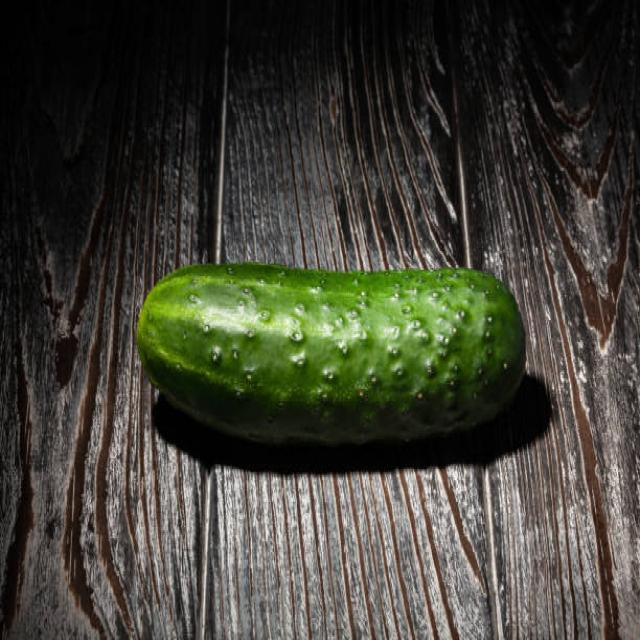cucumber: (135, 262, 528, 446)
